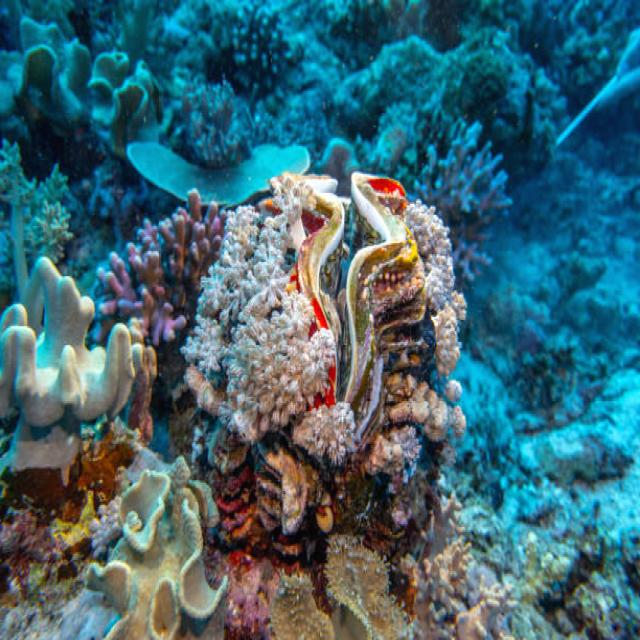Coral: (179, 169, 468, 484), (0, 254, 144, 471), (86, 454, 229, 640), (95, 188, 227, 347), (399, 491, 518, 640), (269, 533, 406, 640)
